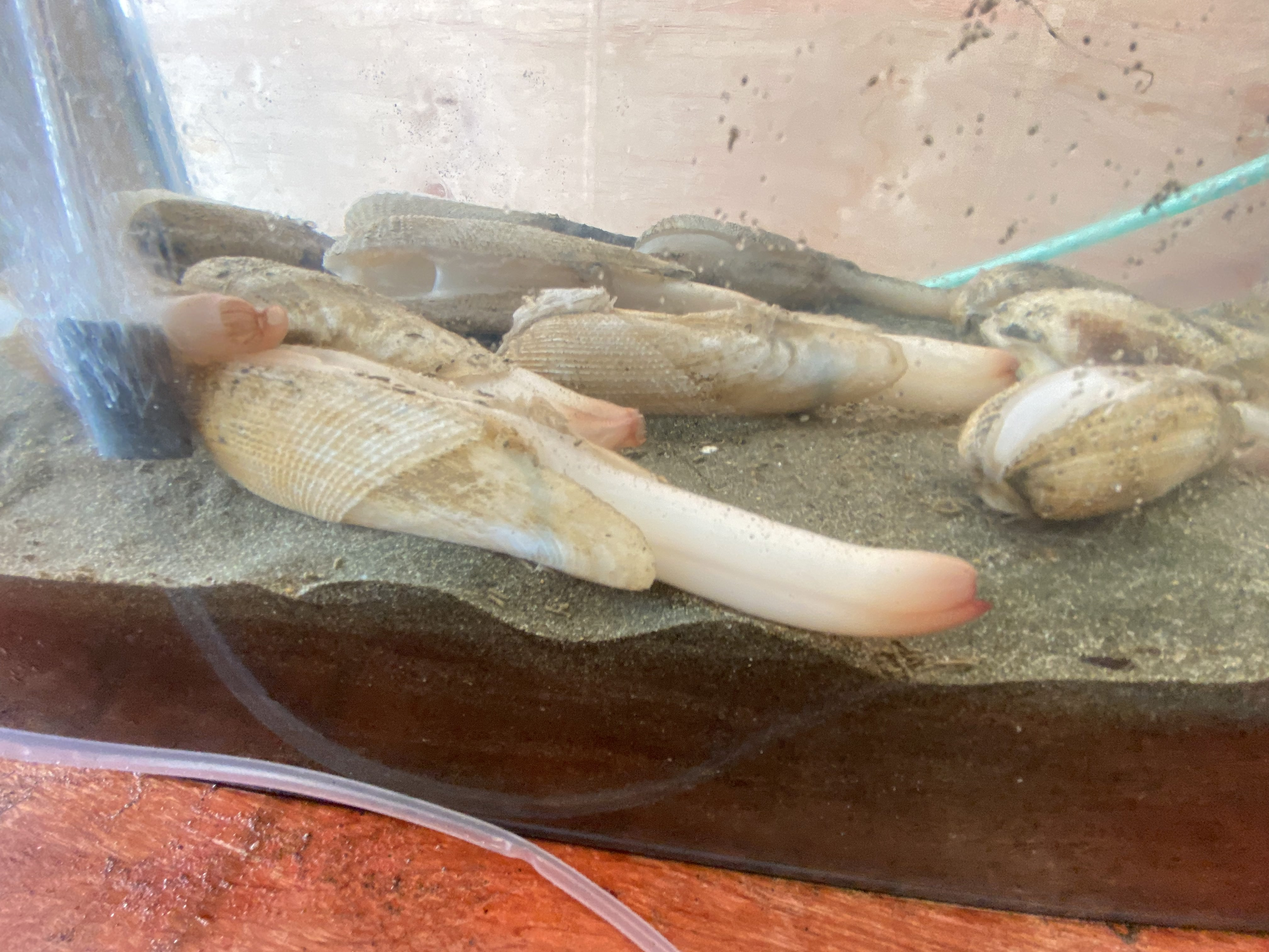Healthy: (195, 347, 985, 635), (185, 257, 644, 448), (500, 289, 905, 414), (145, 199, 331, 266), (162, 292, 288, 363)
